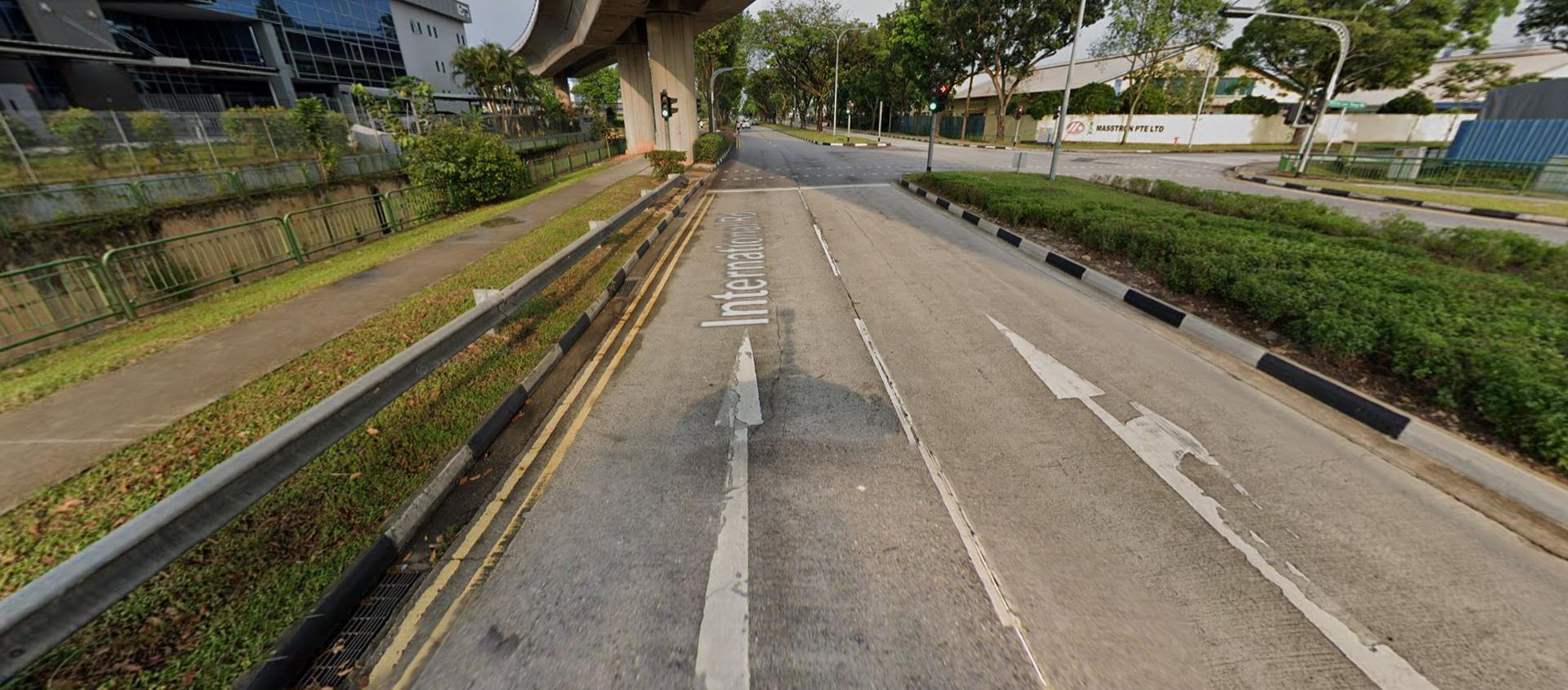defect: (293, 566, 429, 689)
